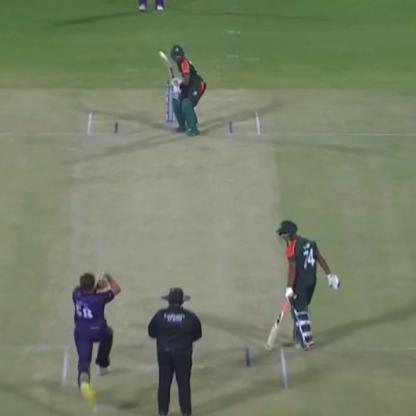ball: (97, 266, 119, 286)
bat: (268, 286, 298, 354), (148, 38, 184, 91)
pitch: (66, 101, 298, 394)
